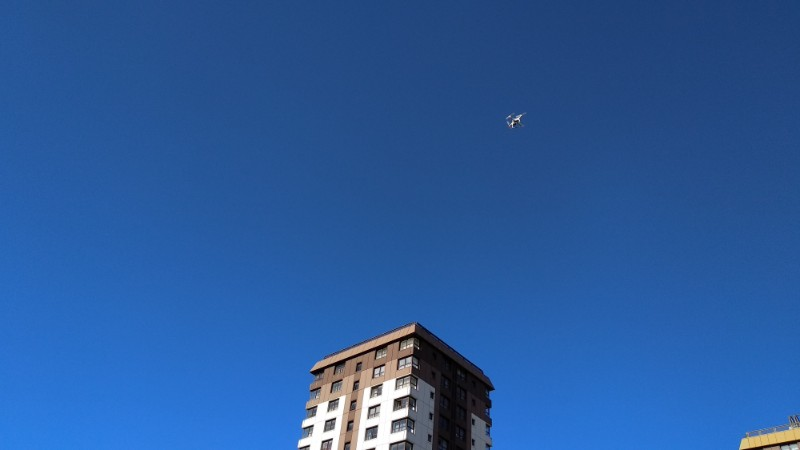drone: (504, 110, 527, 132)
